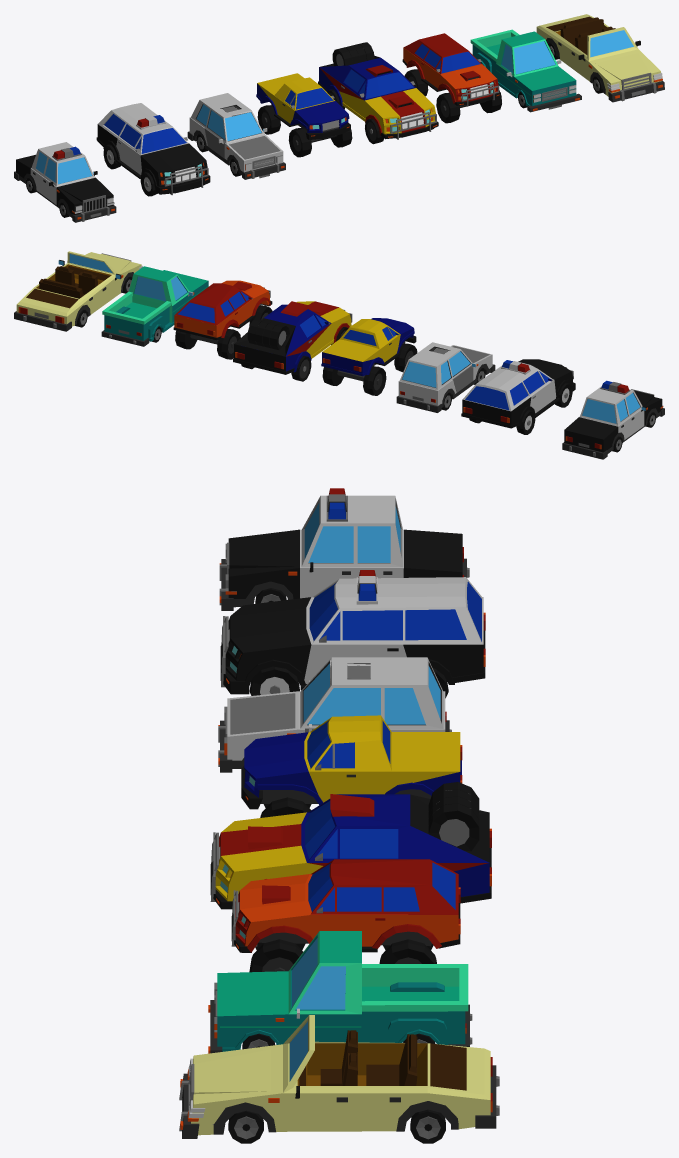
The model's file is Cars_SeparatePieces.fbx.
The picture shows the model from 3 angles, top to bottom: view 1: azimuth 30°, elevation 25°; view 2: azimuth 150°, elevation 25°; view 3: azimuth 270°, elevation 25°; orthographic projection. The views are drawn at different scales.
Parts seen in each view (by area): view 1: piece_01_geo (×5), piece_08_geo (×3), piece_06_geo (×2), piece_05_geo (×2), piece_07_geo (×5), piece_03_geo (×3), piece_02_geo (×2), piece_09_geo (×2), piece_10_geo (×3), piece_04_geo (×2), piece_11_geo; view 2: piece_01_geo (×4), piece_08_geo (×5), piece_05_geo (×3), piece_06_geo (×2), piece_07_geo (×2), piece_03_geo (×3), piece_09_geo, piece_02_geo, piece_11_geo, piece_04_geo, piece_10_geo; view 3: piece_01_geo (×5), piece_08_geo (×4), piece_06_geo (×2), piece_05_geo (×3), piece_07_geo (×2), piece_03_geo (×2), piece_02_geo, piece_09_geo (×2), piece_10_geo.
Boxes of the visible parts, x1,y1,x2,y2 form: piece_01_geo (×5): (191,31,651,143); piece_08_geo (×3): (14,73,349,222); piece_06_geo (×2): (141,14,661,194); piece_05_geo (×2): (98,33,481,154); piece_07_geo (×5): (164,29,519,195); piece_03_geo (×3): (288,17,615,157); piece_02_geo (×2): (402,47,664,103); piece_09_geo (×2): (31,93,581,186); piece_10_geo (×3): (242,85,576,179); piece_04_geo (×2): (257,84,500,134); piece_11_geo: (318,81,382,135); piece_01_geo (×4): (129,266,472,390); piece_08_geo (×5): (14,311,664,459); piece_05_geo (×3): (175,283,553,410); piece_06_geo (×2): (16,251,240,359); piece_07_geo (×2): (102,291,492,407); piece_03_geo (×3): (39,266,417,372); piece_09_geo: (580,380,642,426); piece_02_geo: (173,280,270,340); piece_11_geo: (233,323,349,374); piece_04_geo: (363,366,386,395); piece_10_geo: (461,406,535,428); piece_01_geo (×5): (217,657,489,1047); piece_08_geo (×4): (219,529,485,963); piece_06_geo (×2): (191,643,492,1135); piece_05_geo (×3): (308,570,482,1143); piece_07_geo (×2): (227,691,468,1044); piece_03_geo (×2): (215,812,489,1085); piece_02_geo: (235,874,460,952); piece_09_geo (×2): (249,488,403,972); piece_10_geo: (228,1110,263,1143).
Size of the model in its own units: 4520 by 406 by 1066.
1 material, 1 textured.
